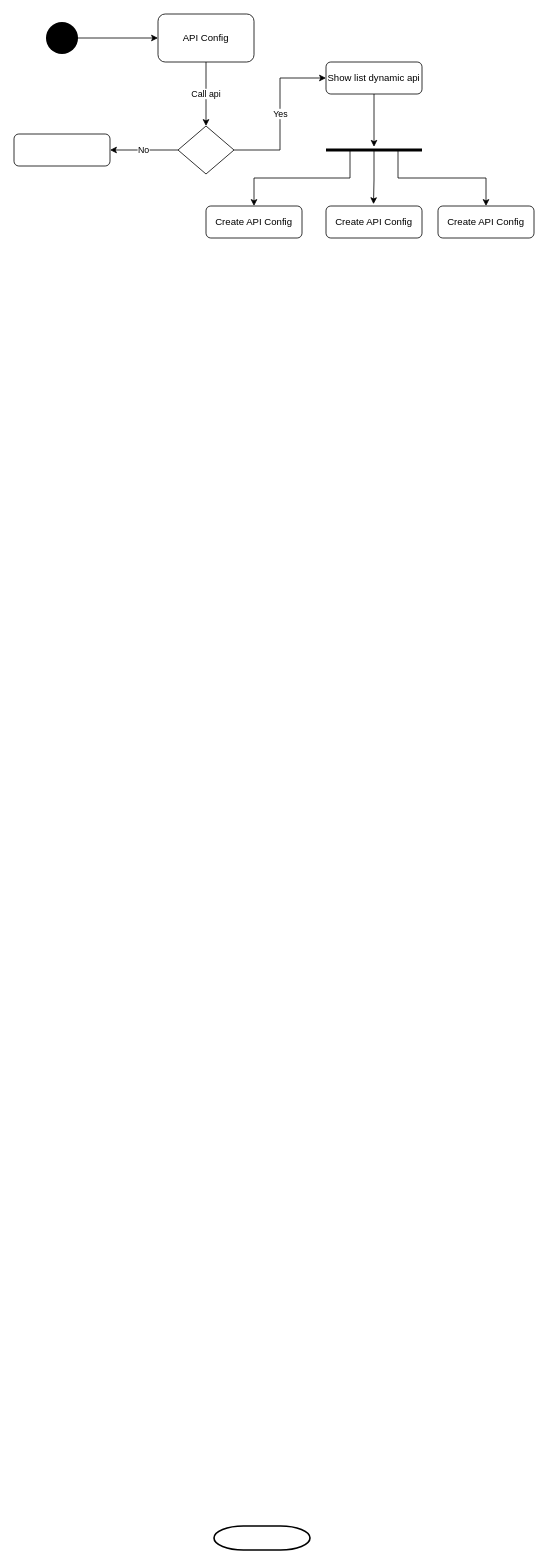
Some shapes in this 548 by 1565 pixel diagram are drawn without their labels. Here are the shapes that lost their labels. From the top down, the box of each, then its label:
(13, 133, 110, 166): Loading data false !
(213, 1525, 310, 1550): end
